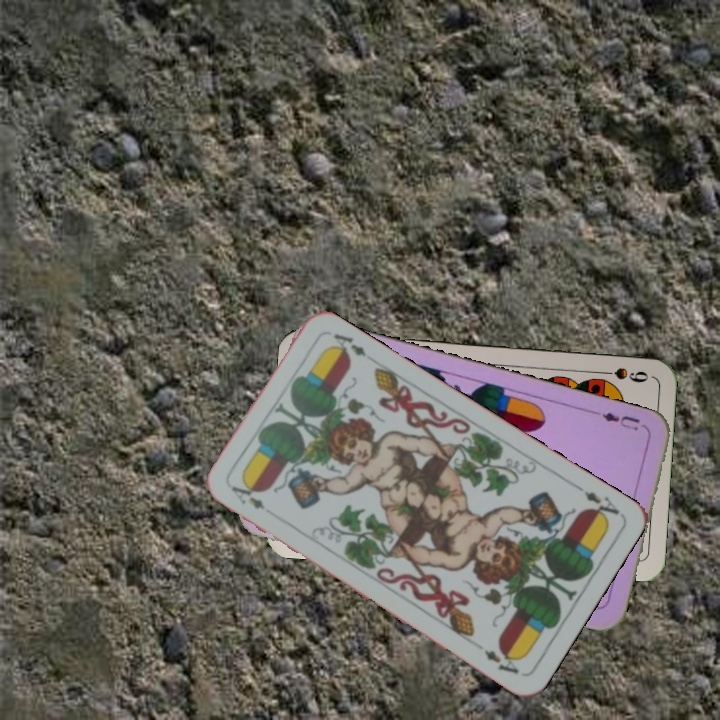EA: (570, 480, 623, 524), (227, 482, 268, 513)
EU: (598, 408, 643, 433)
S9: (592, 363, 651, 386)
